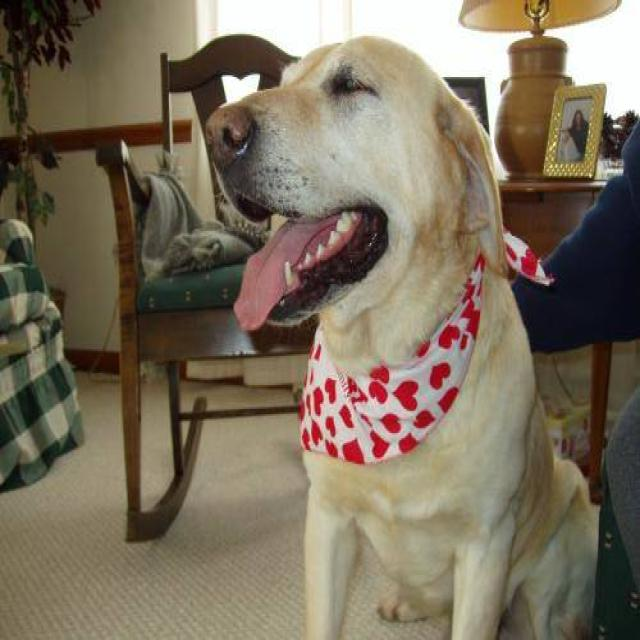Dog: (178, 22, 551, 348)
